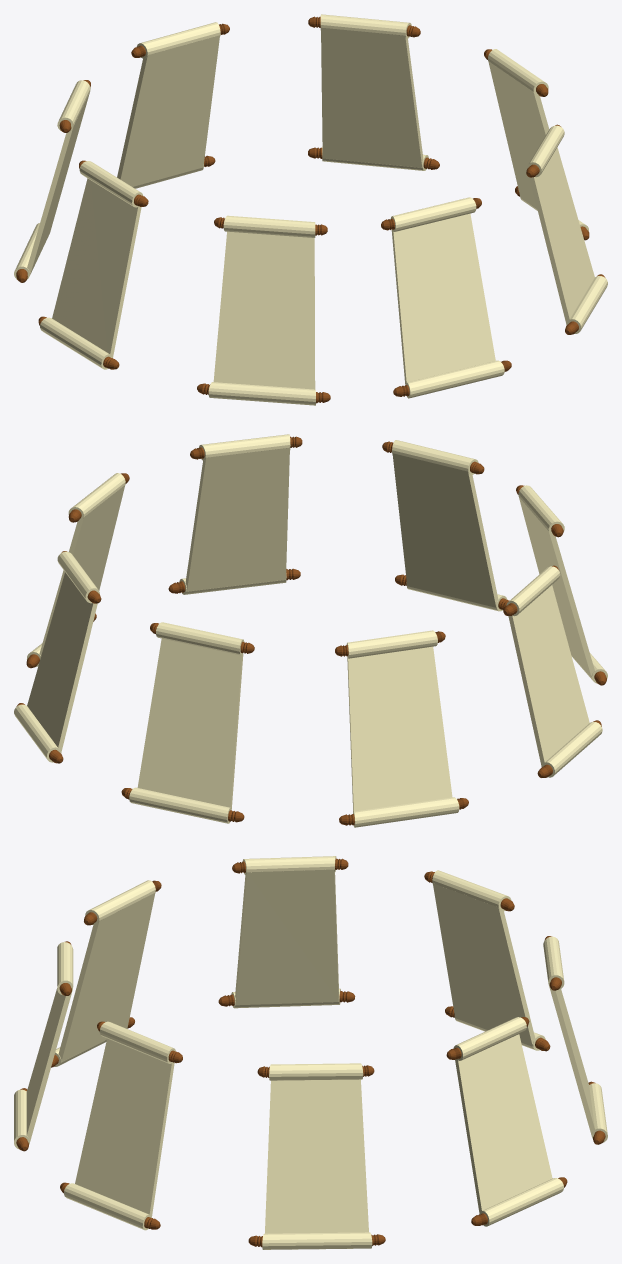
Rendered from pergaminhosv2.glb.
3 views of the same model, one above another, from view 1: azimuth 30°, elevation 25°; view 2: azimuth 150°, elevation 25°; view 3: azimuth 270°, elevation 25° (orthographic).
Parts seen in each view (by area): view 1: Brave_Kasi; view 2: Brave_Kasi; view 3: Brave_Kasi.
Part boxes in pixels (<box>): Brave_Kasi: <box>14,14,607,405</box>; Brave_Kasi: <box>14,434,607,827</box>; Brave_Kasi: <box>14,856,607,1249</box>.
Bounding box in the file's own units: 24.18 × 7.42 × 24.1.
